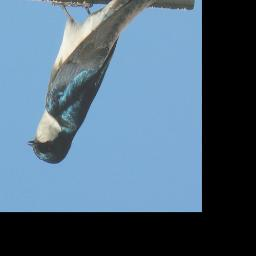Swallow: (26, 0, 165, 166)
